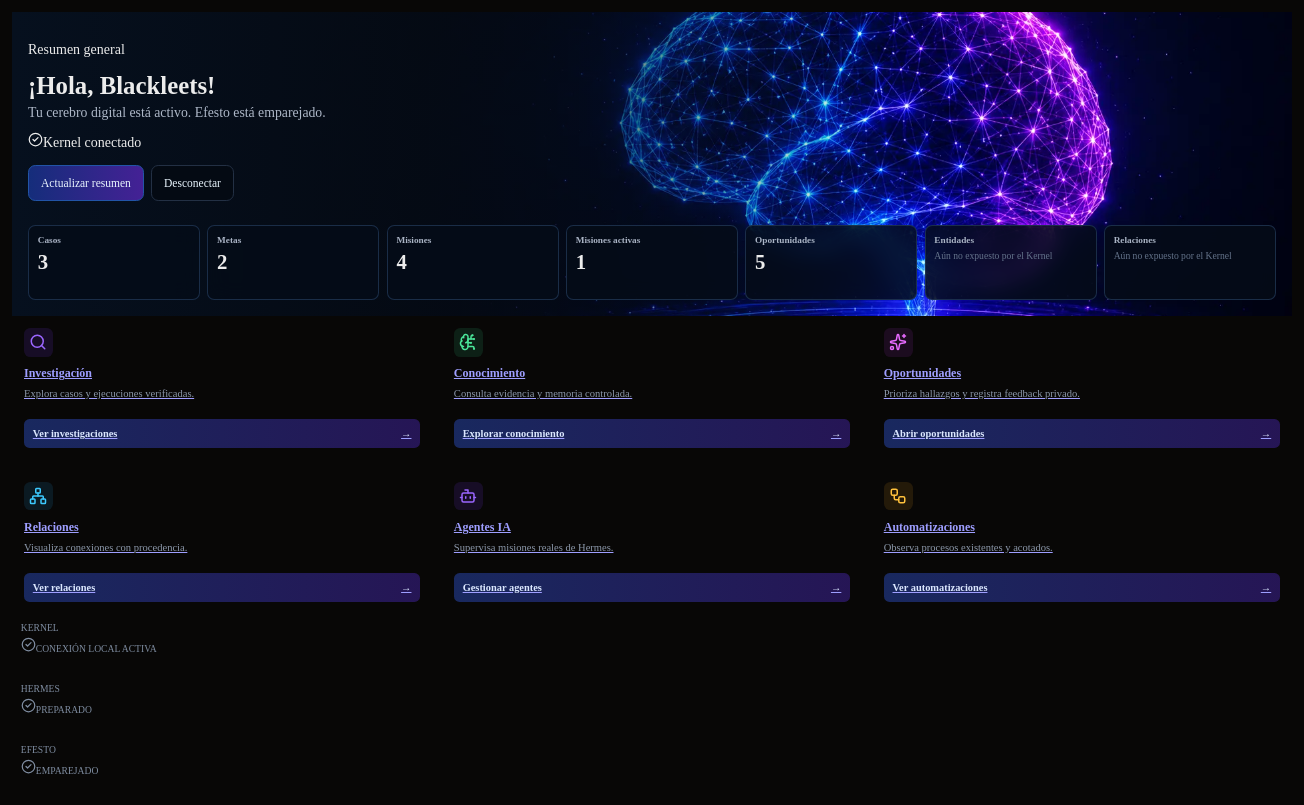
Test case: OverviewScreen › marks a failed refresh stale until a later refresh succeeds
The image size is (1304, 805).
Click the button "Actualizar resumen" at (86, 183), box [28,165,144,201]
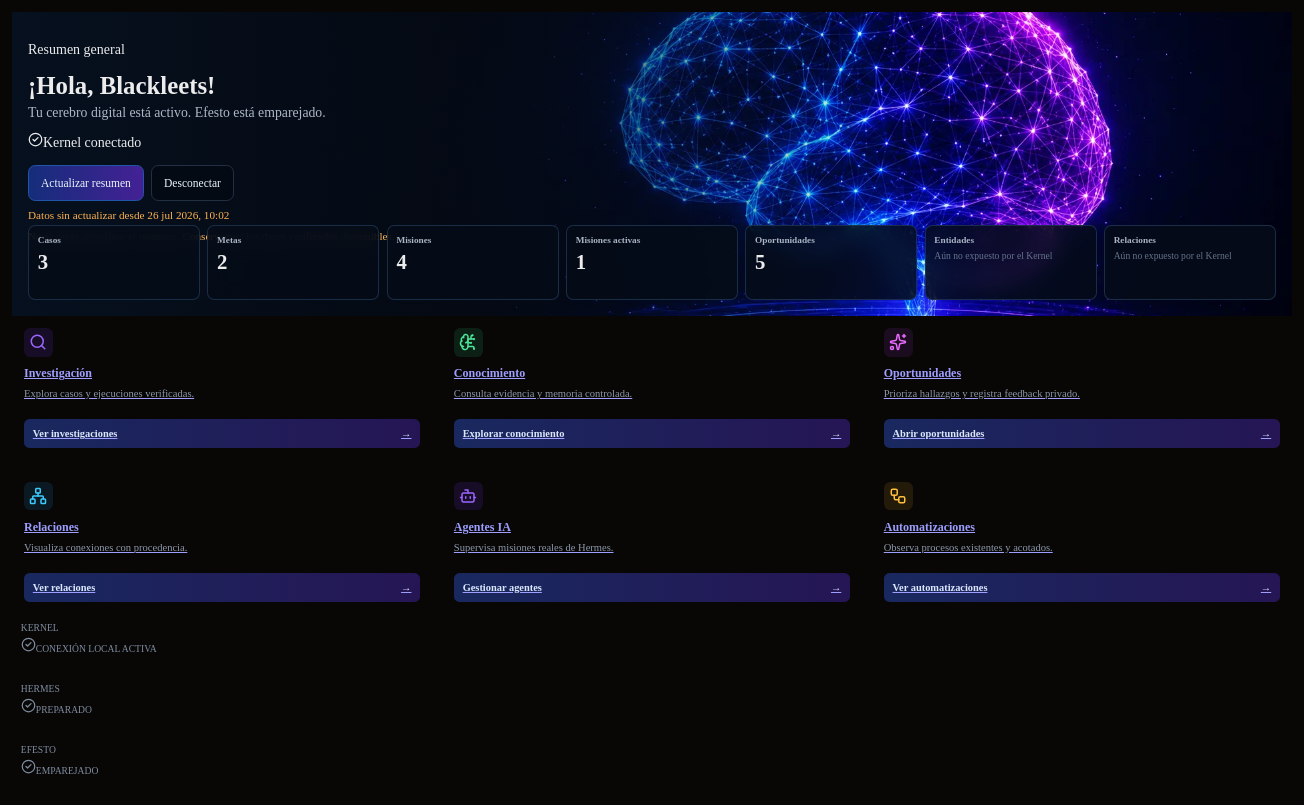
Result: the message shows "Datos sin actualizar desde" at [28,209,147,221]
Result: the 2nd message is shown at [28,230,444,242]
Click the button "Actualizar resumen" at (86, 183), box [28,165,144,201]
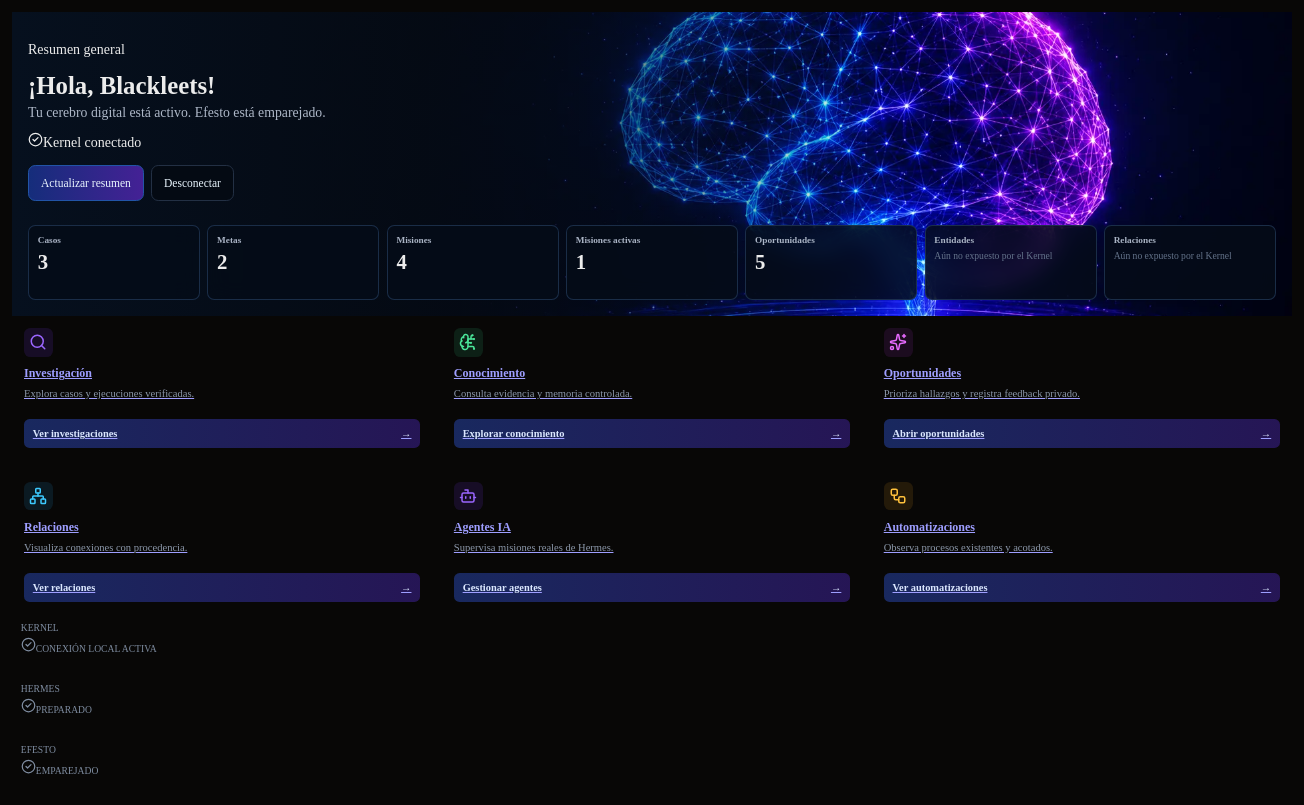
Result: the message "Datos sin actualizar desde 26 jul 2026, 10:02" is gone
